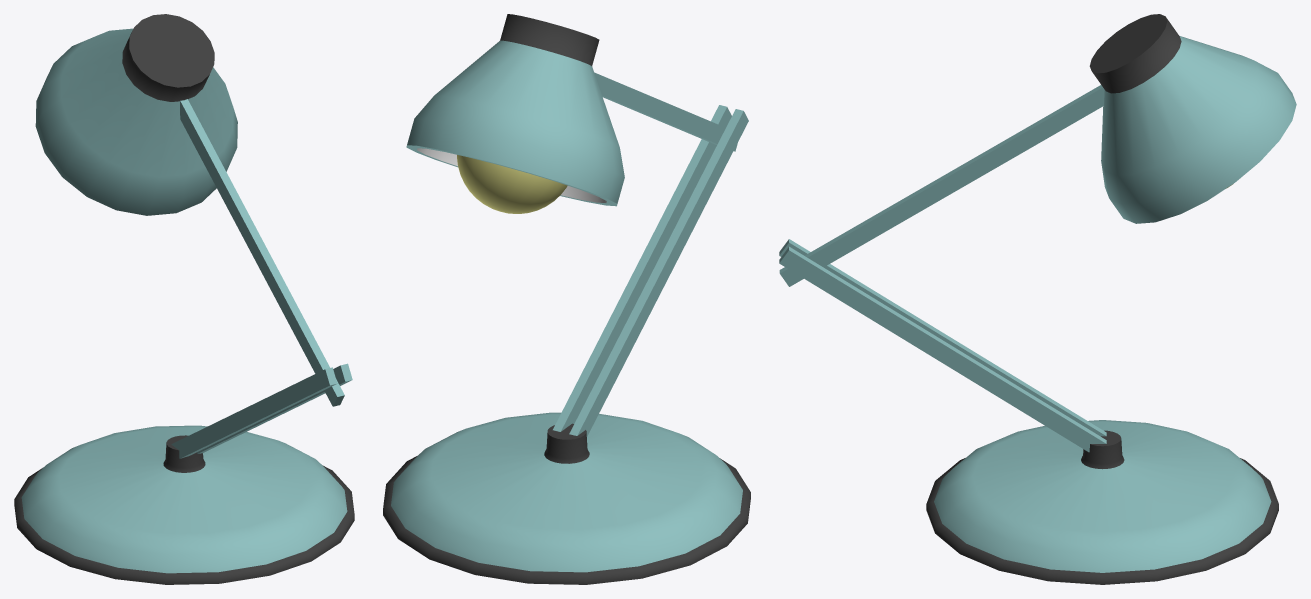
Rendered from Lamp_Model.fbx.
3 views of the same model, side by side, from view 1: azimuth 30°, elevation 25°; view 2: azimuth 150°, elevation 25°; view 3: azimuth 270°, elevation 25° (orthographic). The views are drawn at different scales.
Visible parts, largest first — view 1: Lamp:Base, Lamp:LampShade, Lamp:UpperBeam, Lamp:LowerBeam; view 2: Lamp:Base, Lamp:LampShade, Lamp:LowerBeam, Lamp:LampBulb, Lamp:UpperBeam; view 3: Lamp:Base, Lamp:LampShade, Lamp:LowerBeam, Lamp:UpperBeam.
Boxes of the visible parts, x1,y1,x2,y2 form: Lamp:Base: (14, 425, 354, 584); Lamp:LampShade: (35, 14, 237, 215); Lamp:UpperBeam: (180, 99, 344, 406); Lamp:LowerBeam: (171, 363, 352, 458); Lamp:Base: (383, 412, 750, 584); Lamp:LampShade: (406, 14, 624, 206); Lamp:LowerBeam: (553, 105, 748, 436); Lamp:LampBulb: (457, 155, 567, 213); Lamp:UpperBeam: (594, 72, 737, 151); Lamp:Base: (926, 420, 1278, 584); Lamp:LampShade: (1089, 14, 1296, 223); Lamp:LowerBeam: (779, 239, 1106, 452); Lamp:UpperBeam: (779, 85, 1104, 286).
Bounding box in the file's own units: 16.71 × 25.6 × 24.53.
